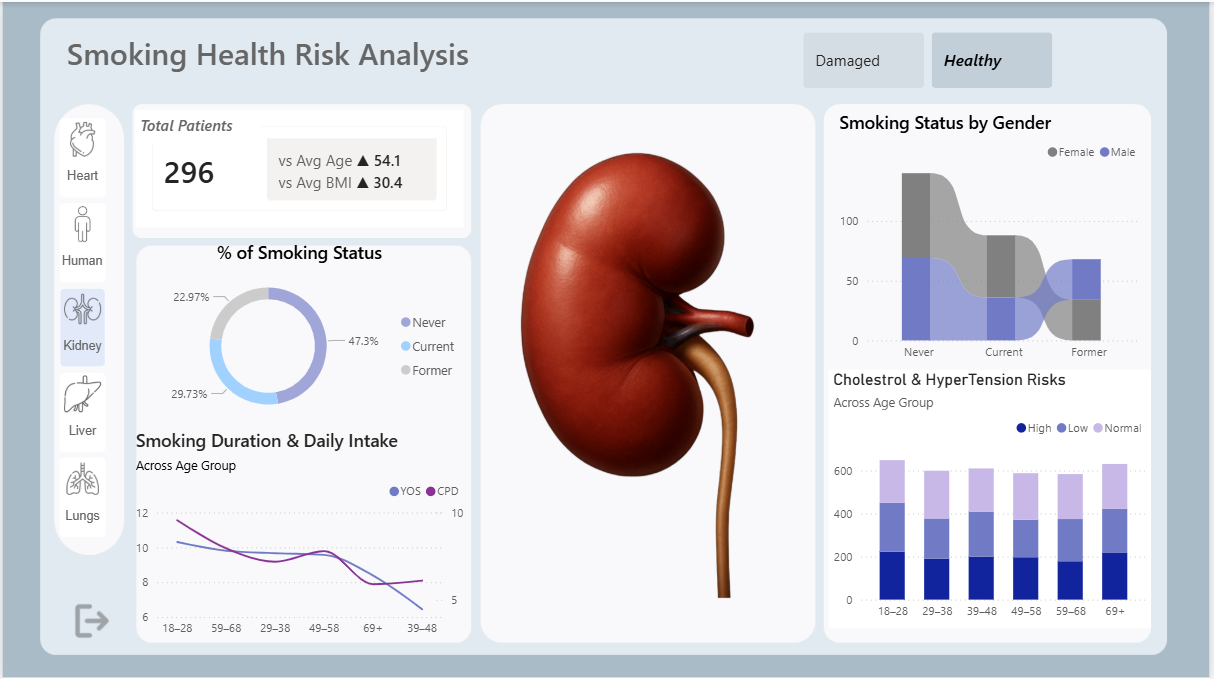

This screenshot's page, from the dashboard's own definition file:
{"tool":"powerbi","page":{"name":"Page 1","canvas":[1280,720],"ordinal":0},"visuals":[{"type":"cardVisual","fields":{"Data":["CountNonNull(health_dataset.Patient_ID)"]},"box":[141.7,115.3,347.7,124.7],"z":0},{"type":"textbox","box":[141.7,115.3,132.3,35.9],"z":1000},{"type":"advancedSlicerVisual","fields":{"Values":["condition.Organ_Condition"]},"box":[844.7,26.5,275.9,69.9],"z":2000},{"type":"ChicletSlicer1448559807354","fields":{"Category":["Organs.Organ"],"Image":["Organs.Icon_URL"]},"box":[52.9,115.3,88.8,480],"z":3000},{"type":"image","box":[517.8,115.3,326.9,548],"z":4000},{"type":"donutChart","title":"% of Smoking Status","fields":{"Category":["health_dataset.Smoking_Status"],"Y":["CountNonNull(health_dataset.Smoking_Status)"]},"box":[136.1,253.2,357.2,198.4],"z":5000},{"type":"lineChart","title":"Smoking Duration & Daily Intake","fields":{"Category":["health_dataset.Age Group"],"Y":["Avg(health_dataset.Years_of_Smoking)"],"Y2":["Avg(health_dataset.Cigarettes_Per_Day)"]},"box":[136.1,451.7,357.2,230.6],"z":6000},{"type":"ribbonChart","title":"Smoking Status by Gender","fields":{"Category":["health_dataset.Smoking_Status"],"Y":["CountNonNull(health_dataset.Patient_ID)"],"Series":["health_dataset.Gender"]},"box":[882.5,115.3,328.8,274],"z":7000},{"type":"columnChart","title":"Cholestrol & HyperTension Risks","fields":{"Category":["health_dataset.Age Group"],"Y":["Avg(health_dataset.Cholesterol_Level)"],"Series":["health_dataset.BP_Risk"]},"box":[876.9,389.3,342,274],"z":8000},{"type":"textbox","box":[64.3,26.5,500.8,69.9],"z":8001}]}

Visuals, with their boxes in screenshot pixels (x1, y1, x2, y2), scaled from the page's 1280x720 canvas onto the 1214x679 screenshot:
cardVisual - CountNonNull(health_dataset.Patient_ID): bbox(134, 109, 464, 226)
textbox: bbox(134, 109, 260, 143)
advancedSlicerVisual - condition.Organ_Condition: bbox(801, 25, 1063, 91)
ChicletSlicer1448559807354 - Organs.Organ x Organs.Icon_URL: bbox(50, 109, 134, 561)
image: bbox(491, 109, 801, 626)
"% of Smoking Status" donutChart: bbox(129, 239, 468, 426)
"Smoking Duration & Daily Intake" lineChart: bbox(129, 426, 468, 643)
"Smoking Status by Gender" ribbonChart: bbox(837, 109, 1149, 367)
"Cholestrol & HyperTension Risks" columnChart: bbox(832, 367, 1156, 626)
textbox: bbox(61, 25, 536, 91)
